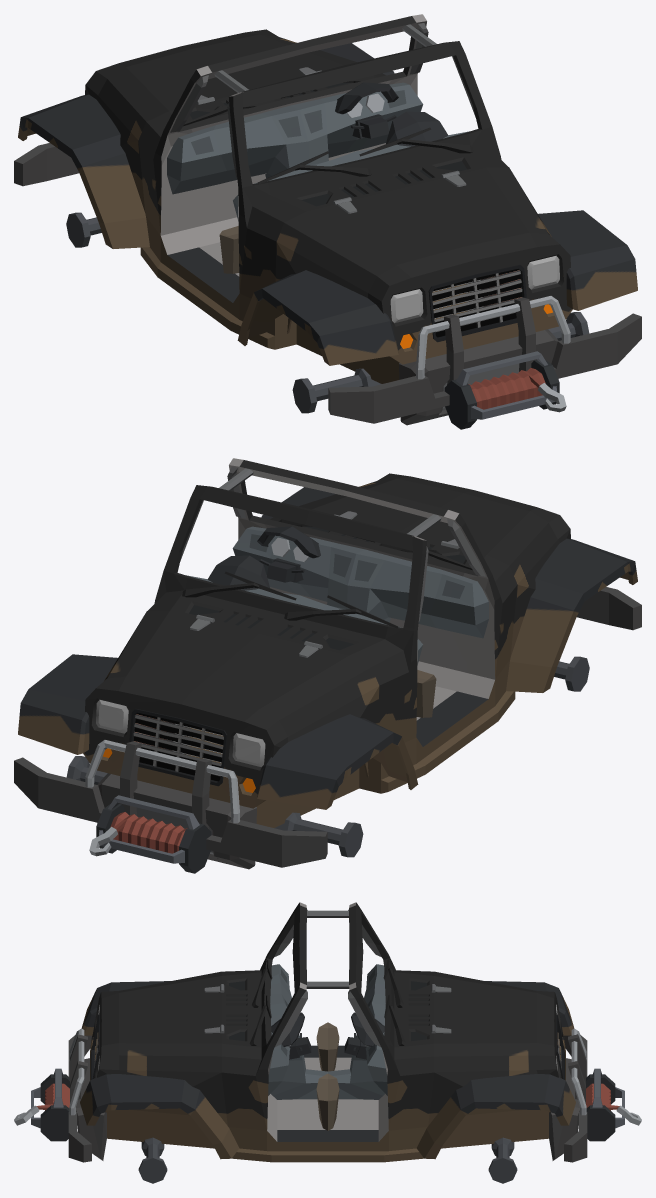
Rendered from aaaa 2.fbx.
3 views of the same model, one above another, from view 1: azimuth 30°, elevation 25°; view 2: azimuth 150°, elevation 25°; view 3: azimuth 270°, elevation 25° (orthographic). The views are drawn at different scales.
Visible parts, largest first — view 1: SK_Veh_4x4_Car_Alt_01_positive; view 2: SK_Veh_4x4_Car_Alt_01_positive; view 3: SK_Veh_4x4_Car_Alt_01_positive.
Part boxes in pixels (x1,y1,x2,y2): SK_Veh_4x4_Car_Alt_01_positive: (14,14,641,429); SK_Veh_4x4_Car_Alt_01_positive: (14,458,641,873); SK_Veh_4x4_Car_Alt_01_positive: (14,902,641,1183).
Size of the model in its own units: 228 by 169 by 498.
